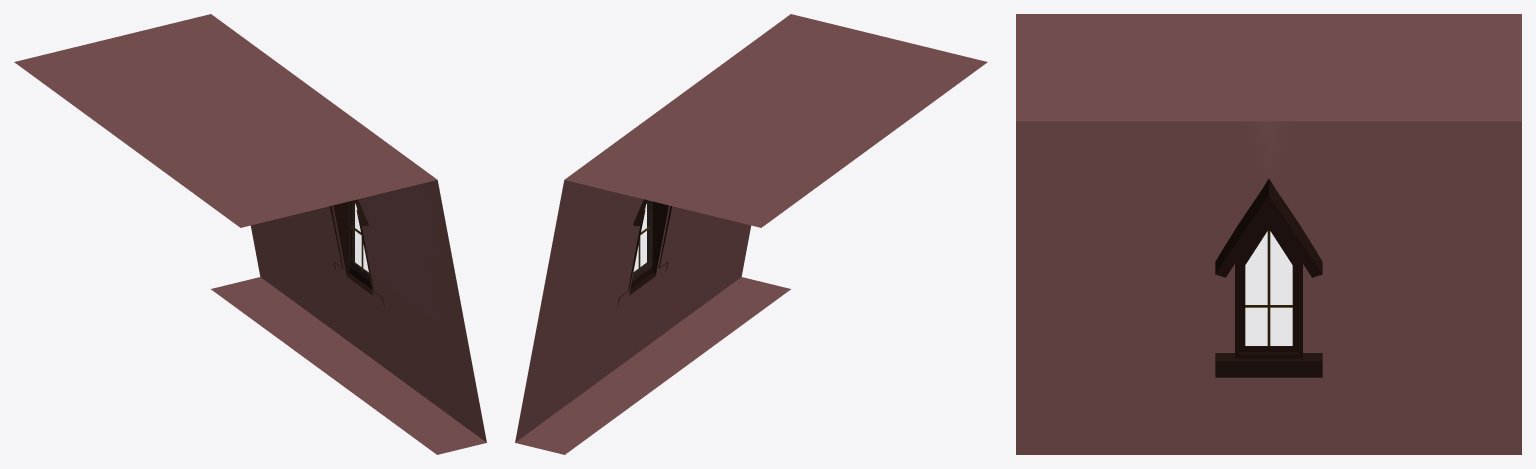
Rendered from Tejado_03.fbx.
3 renders of one model, left to right at view 1: azimuth 30°, elevation 25°; view 2: azimuth 150°, elevation 25°; view 3: azimuth 270°, elevation 25°, orthographic. The views are drawn at different scales.
Visible parts, largest first — view 1: polySurface25, Ventana; view 2: polySurface25, Ventana; view 3: polySurface25, Ventana, Barrotes.
Boxes of the visible parts, x1,y1,x2,y2 form: polySurface25: (14,14,486,454); Ventana: (330,199,384,307); polySurface25: (515,14,987,454); Ventana: (617,199,671,307); polySurface25: (1016,14,1521,454); Ventana: (1215,178,1322,377); Barrotes: (1245,229,1292,345).
Size of the model in its own units: 7.5 by 8 by 11.95.
